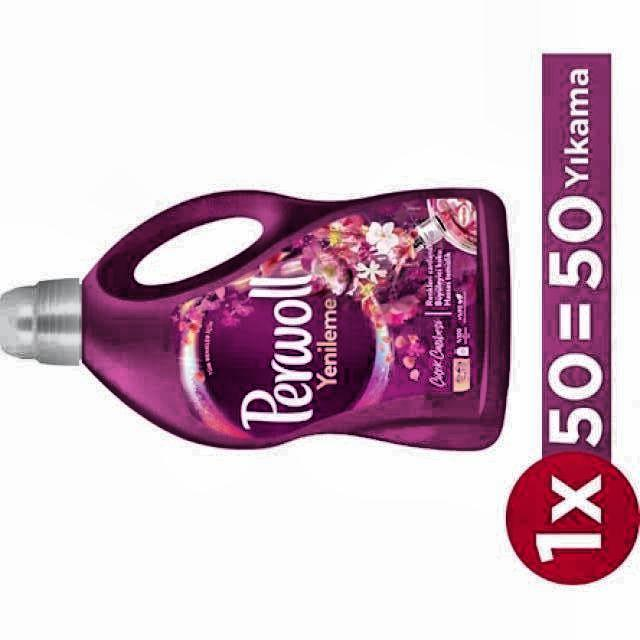plastic: (0, 189, 510, 449)
